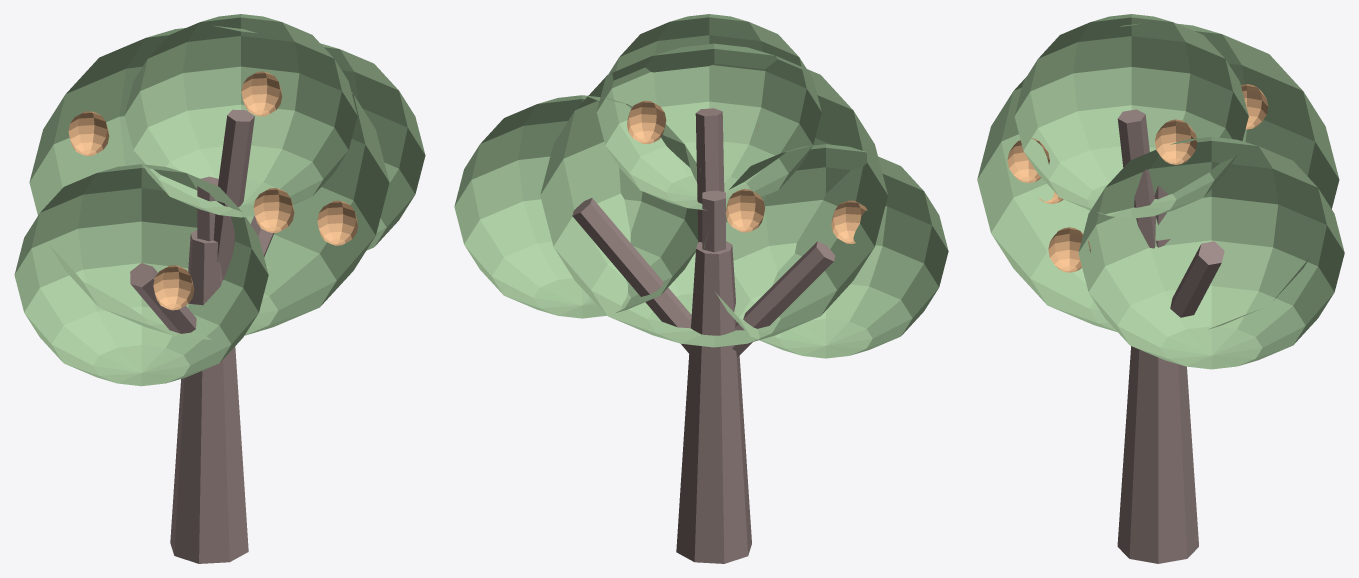
File: meadow-courier-village-apple-tree__35.glb
The picture shows the model from 3 angles, left to right: view 1: azimuth 30°, elevation 25°; view 2: azimuth 150°, elevation 25°; view 3: azimuth 270°, elevation 25°; orthographic projection. The views are drawn at different scales.
Visible parts, largest first — view 1: meadow-courier-apple-tree; view 2: meadow-courier-apple-tree; view 3: meadow-courier-apple-tree.
Part boxes in pixels (box(x1,y1,x2,y2)): meadow-courier-apple-tree: box(14, 14, 425, 563); meadow-courier-apple-tree: box(454, 14, 948, 563); meadow-courier-apple-tree: box(977, 14, 1344, 563).
Size of the model in its own units: 2.79 by 3.29 by 2.07.
